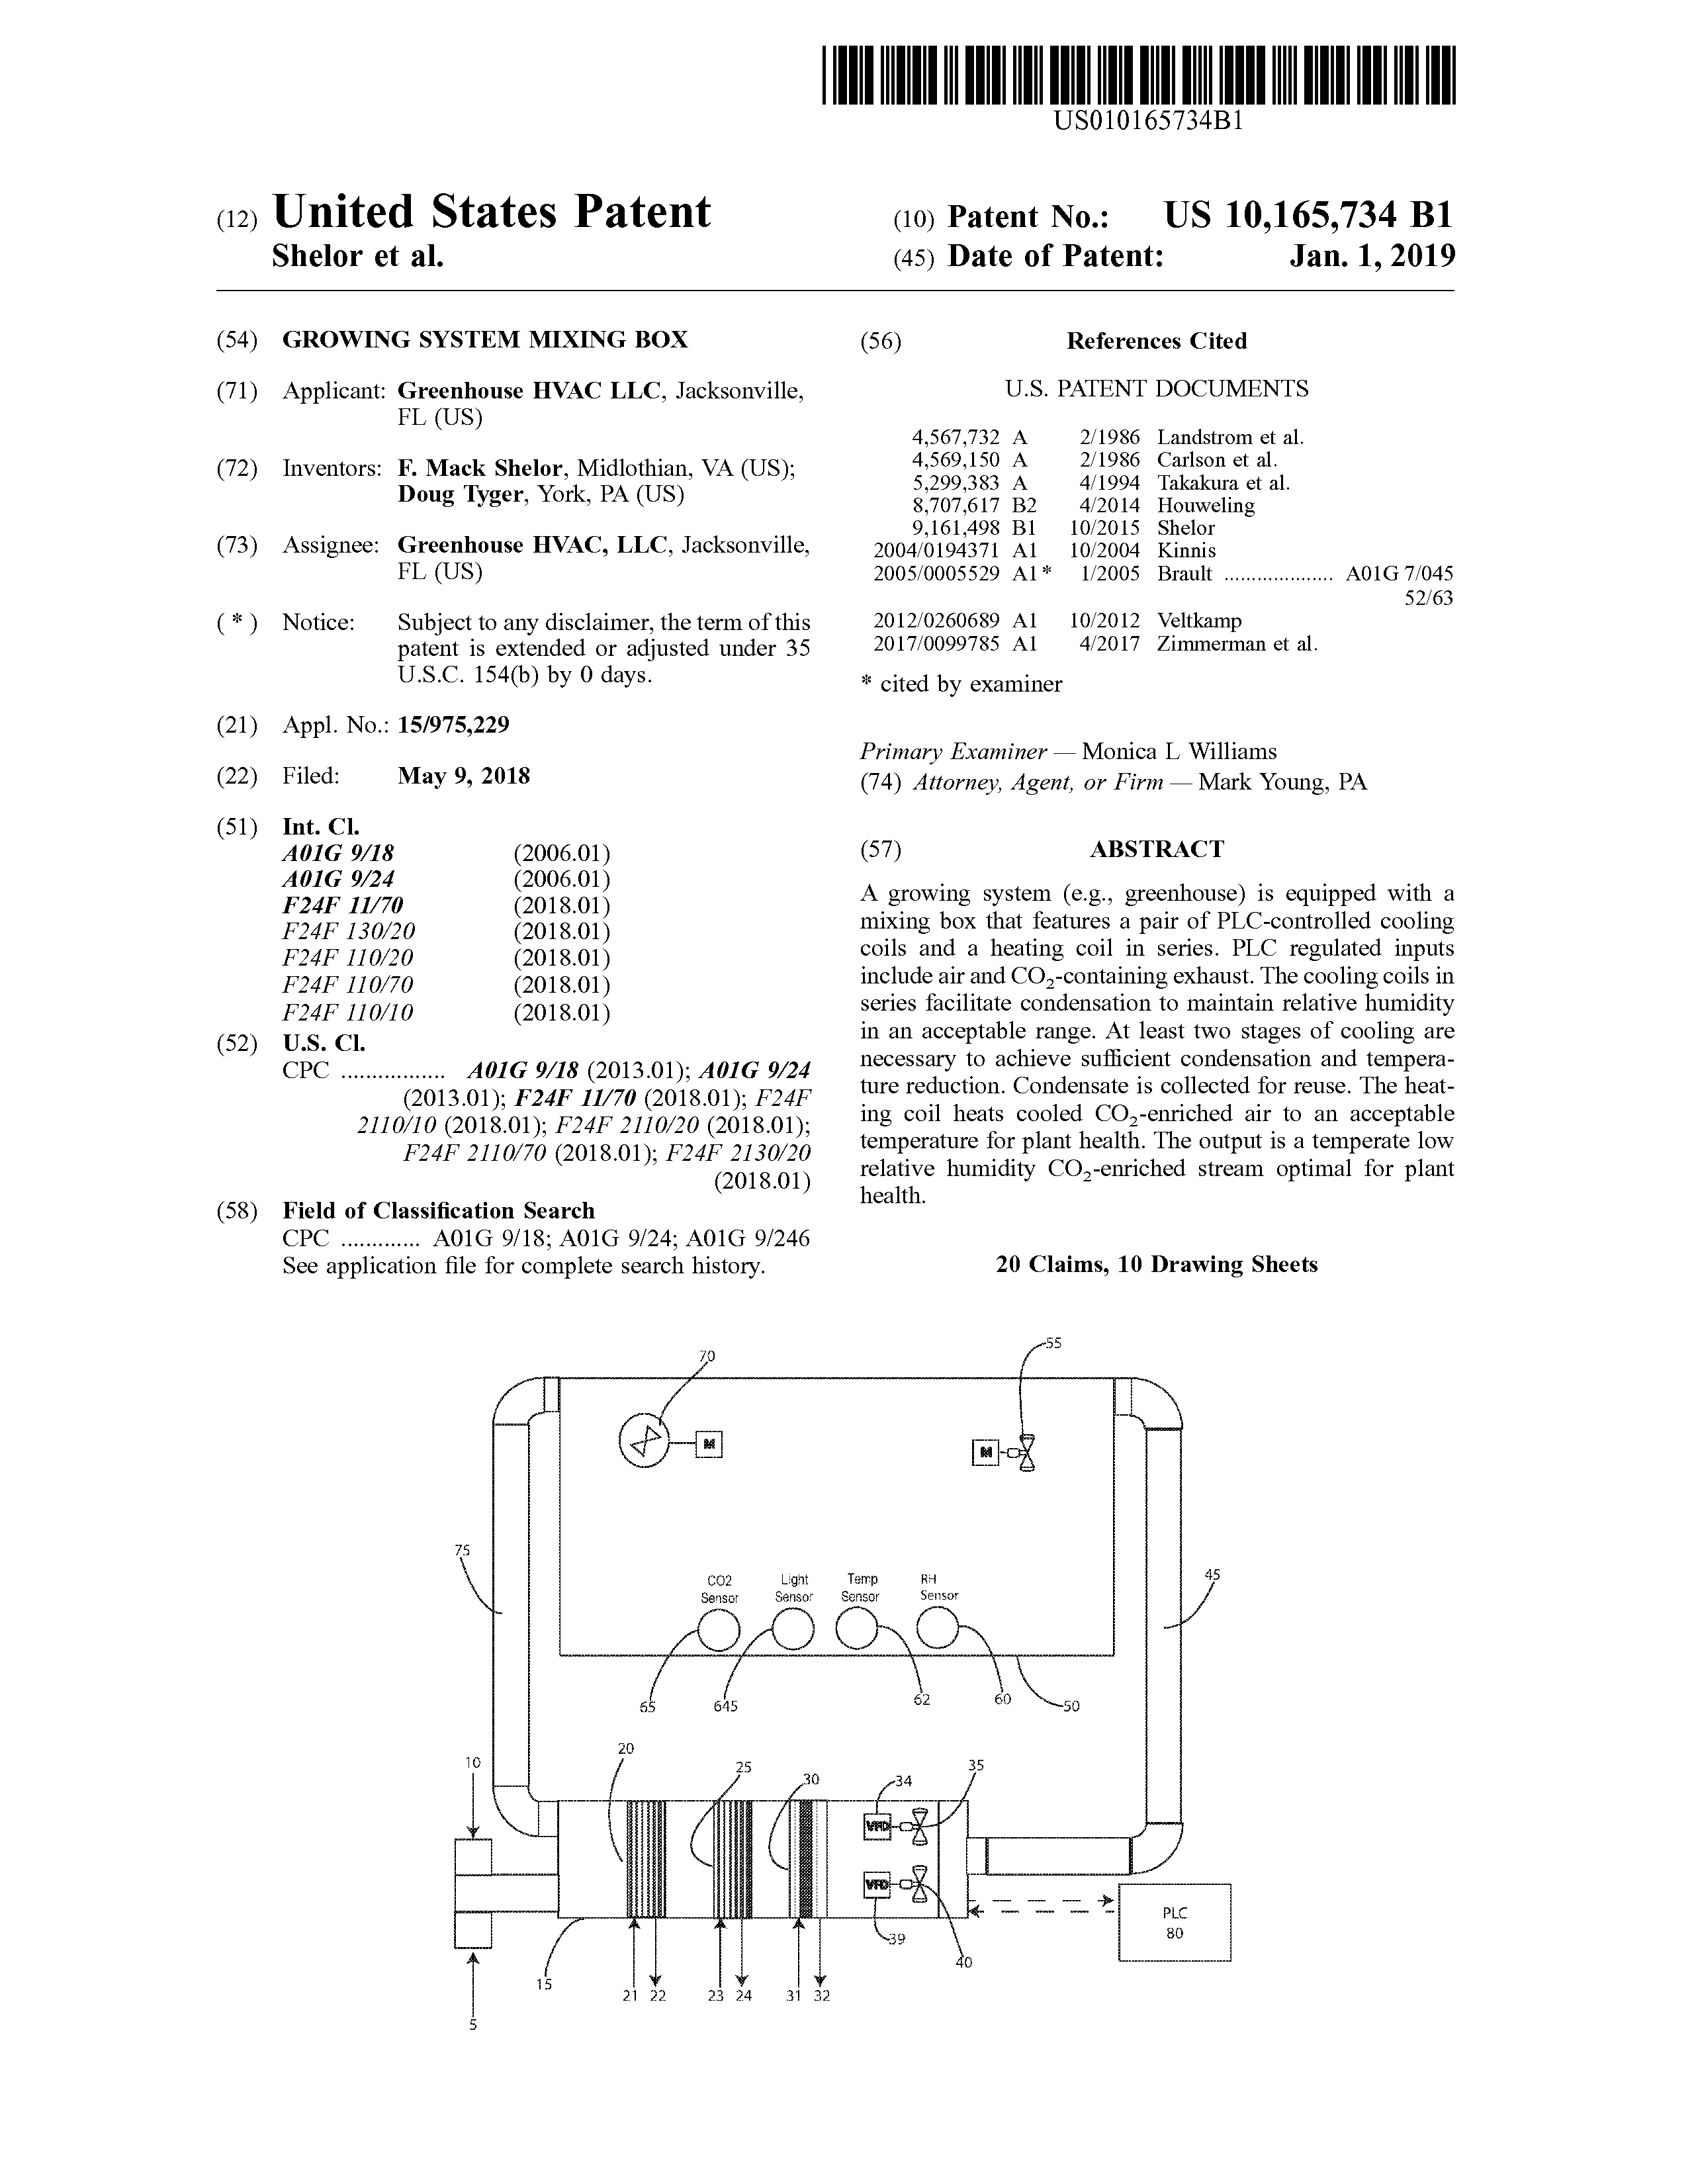patent image: (405, 1315, 1306, 2048)
